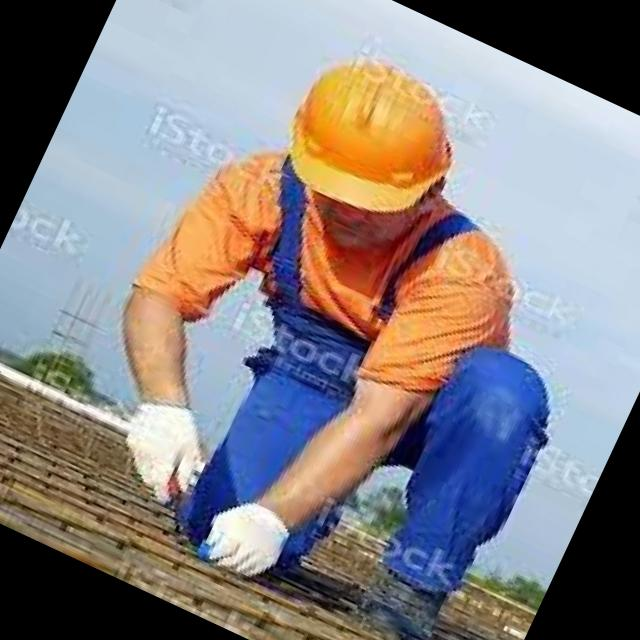hard_hat: (253, 24, 493, 248)
vehicle: (13, 0, 640, 640)
work_boots: (342, 541, 471, 640)
